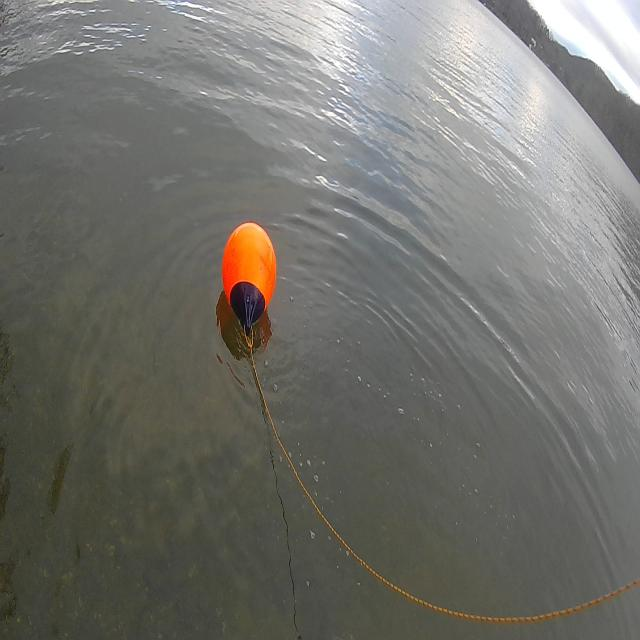Buoy: (219, 210, 280, 333)
